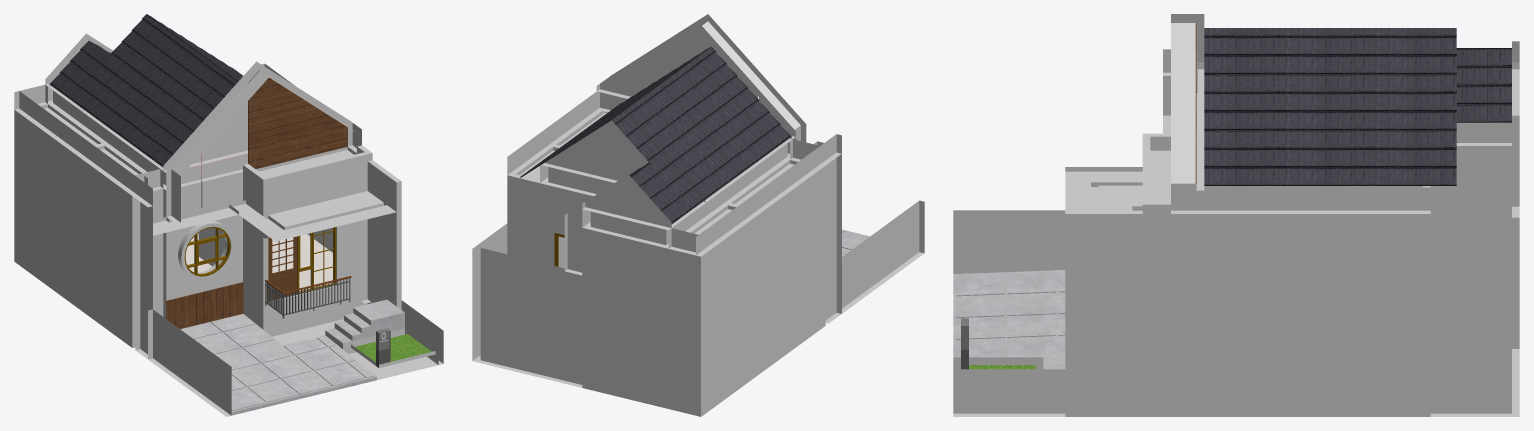
The model's file is hiroi-yuri-42.glb.
The picture shows the model from 3 angles, left to right: view 1: azimuth 30°, elevation 25°; view 2: azimuth 150°, elevation 25°; view 3: azimuth 270°, elevation 25°; orthographic projection. The views are drawn at different scales.
Parts seen in each view (by area): view 1: ID6, ID651, ID121, ID633, ID836, ID554, ID801, ID168, ID613; view 2: ID6, ID651; view 3: ID6, ID651, ID121.
Part boxes in pixels (bbox=[...]): ID6: bbox=[14, 33, 443, 416]; ID651: bbox=[49, 14, 242, 167]; ID121: bbox=[180, 299, 404, 415]; ID633: bbox=[166, 70, 347, 328]; ID836: bbox=[185, 233, 336, 302]; ID554: bbox=[184, 226, 336, 301]; ID801: bbox=[265, 278, 350, 318]; ID168: bbox=[269, 236, 297, 300]; ID613: bbox=[355, 334, 431, 362]; ID6: bbox=[472, 14, 924, 416]; ID651: bbox=[520, 47, 791, 224]; ID6: bbox=[953, 14, 1519, 416]; ID651: bbox=[1204, 28, 1511, 185]; ID121: bbox=[953, 270, 1065, 369].
Bounding box in the file's own units: 6.5 × 7.34 × 11.
17 materials, 8 textured.
